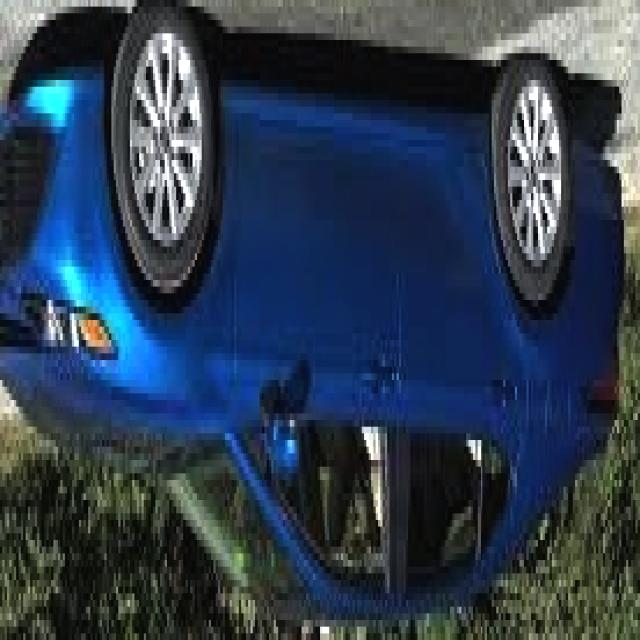blue: (5, 0, 640, 606)
